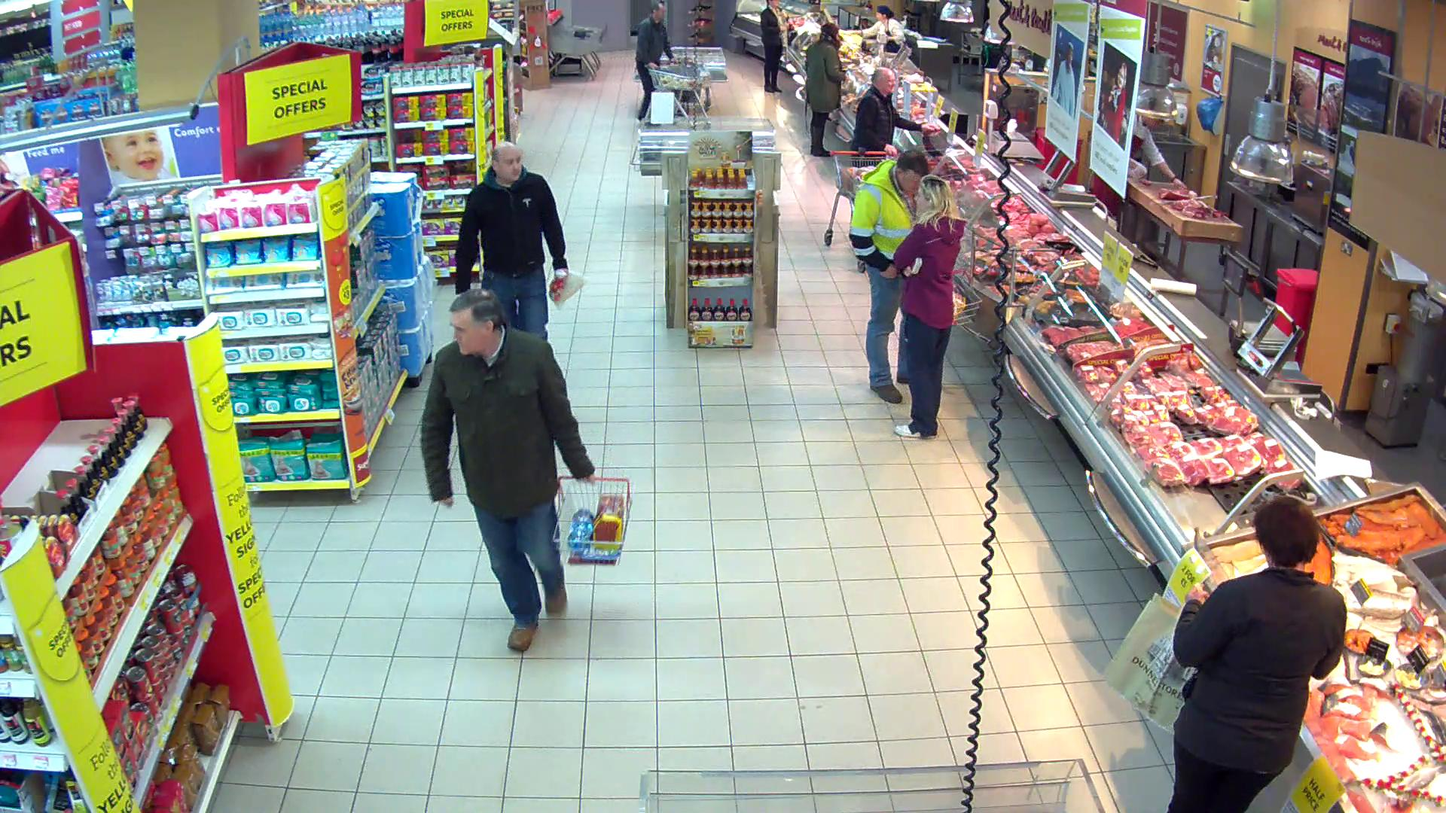carrying-item: (548, 267, 587, 309)
filled-basket: (549, 473, 632, 566)
filled-shopping-bags: (1103, 593, 1200, 732)
filled-trolly: (824, 149, 900, 272)
person: (419, 291, 596, 650), (1173, 497, 1347, 813), (455, 142, 568, 331), (851, 66, 939, 154)
person-with-carrying-item: (455, 141, 587, 330)
person-with-filled-basket-trolly: (419, 291, 632, 649), (825, 66, 939, 270)
person-with-filled-shopping-bag-s-: (1104, 496, 1345, 813)
